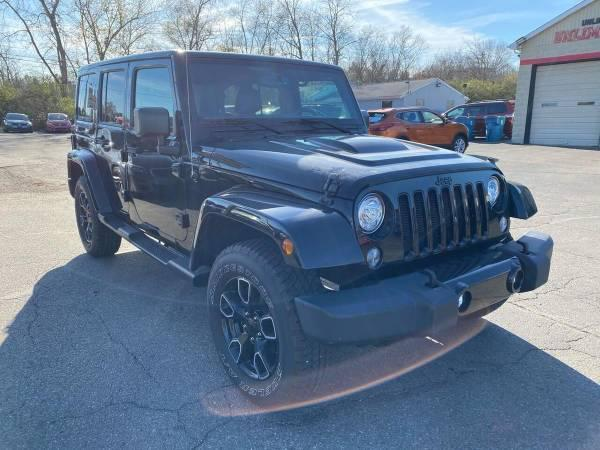Front_Bumper: (301, 228, 560, 348)
Front_Fender: (182, 155, 362, 278)
Front_Right_Door: (127, 131, 192, 254)
Front_Right_Window: (126, 58, 182, 138)
Front_Windshield: (176, 53, 371, 140)
Grille: (353, 166, 511, 262)
Hood: (193, 129, 500, 199)
Left_Headlight: (485, 172, 507, 212)
Rear_Fender: (67, 66, 118, 212)
Rear_Right_Door: (93, 124, 136, 229)
Rear_Right_Window: (98, 62, 130, 128)
Right_Headlight: (359, 189, 392, 234)
Wheel: (206, 235, 334, 410), (72, 178, 122, 259)
